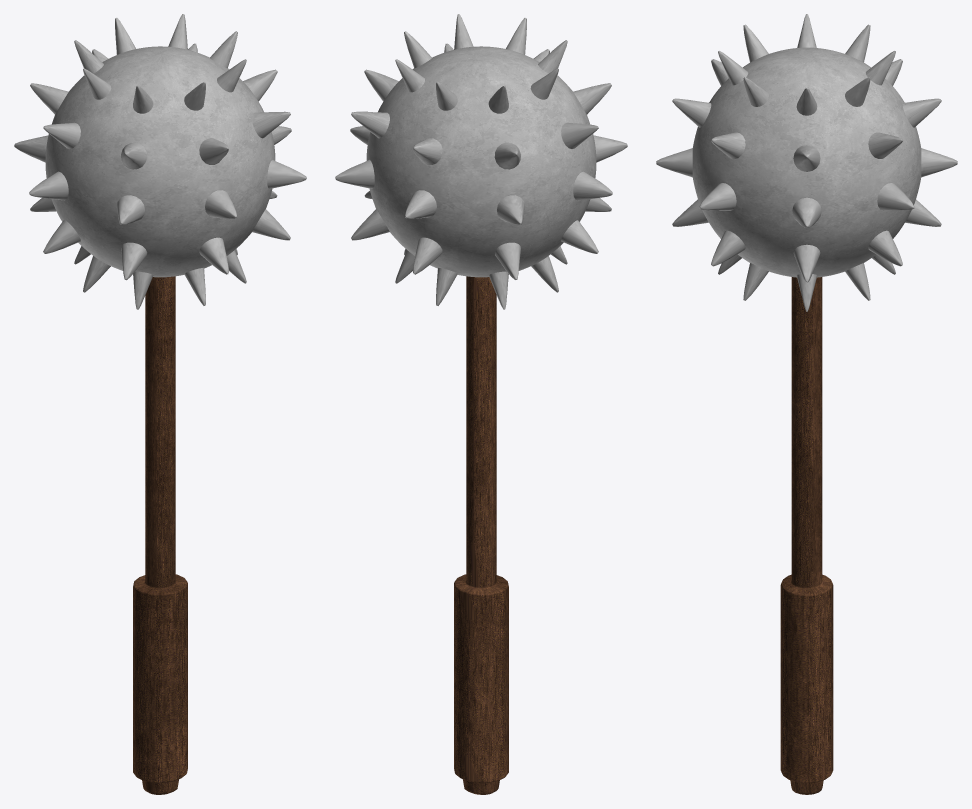
File: mace.glb
3 views of the same model, side by side, from view 1: azimuth 30°, elevation 25°; view 2: azimuth 150°, elevation 25°; view 3: azimuth 270°, elevation 25° (orthographic).
Visible parts, largest first — view 1: group9 (×2); view 2: group9 (×2); view 3: group9 (×2).
Part boxes in pixels (bbox=[...]): group9 (×2): bbox=[14, 14, 306, 794]; group9 (×2): bbox=[335, 14, 627, 794]; group9 (×2): bbox=[656, 14, 957, 794].
Size of the model in its own units: 2.61 by 7.1 by 2.61.
2 materials, 2 textured.
